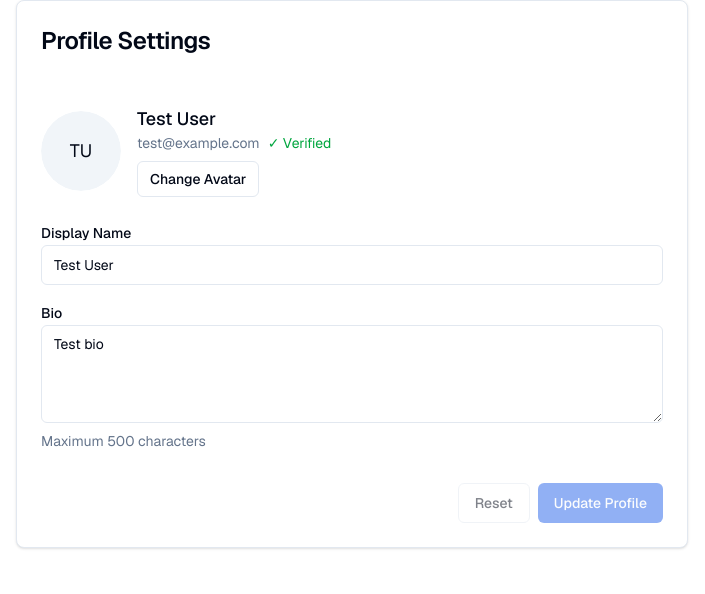
Scenario: ProfileForm Component › should show validation errors for invalid input
Replace the text in the field labelled "Display Name" with "A": (352, 265) [41,245,663,285]
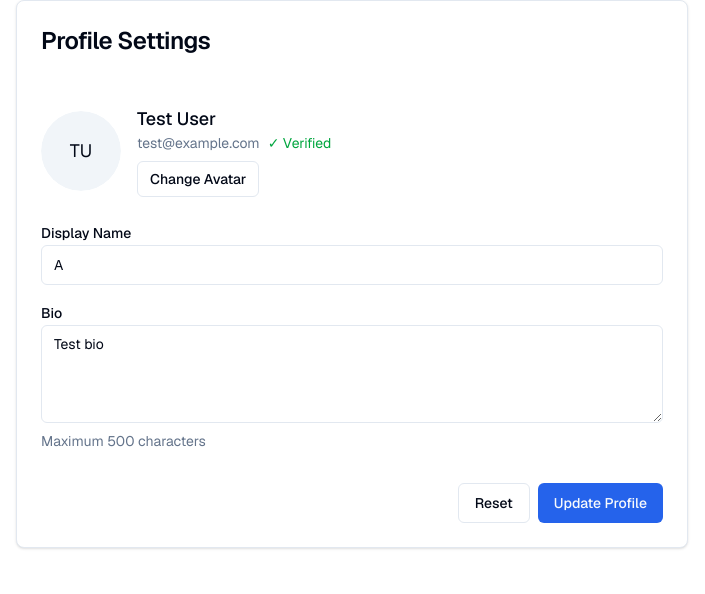
# Try to submit the form to trigger validation
Click the button "Update Profile": click(600, 503) [538,483,663,523]
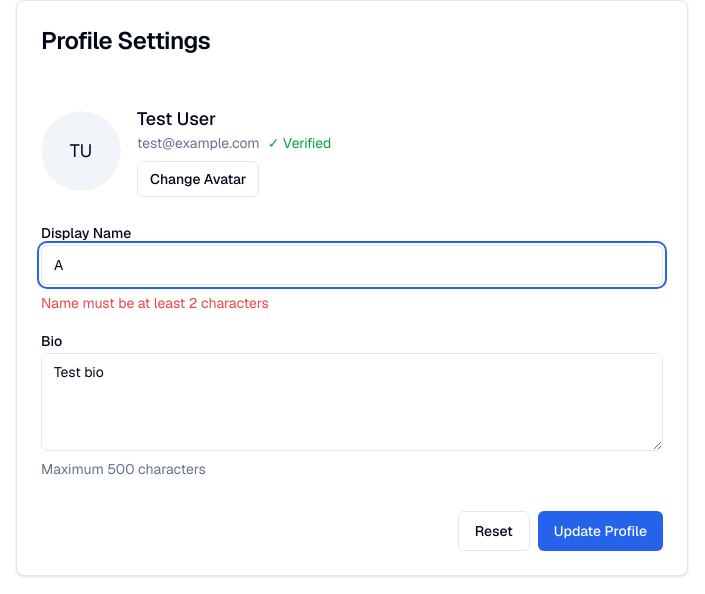
Result: the text "Name must be at least 2 characters" is shown at [41,294,269,312]
